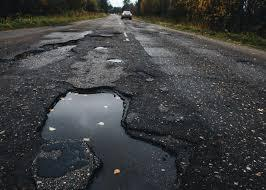pothole: (35, 87, 183, 190), (8, 34, 81, 71), (102, 56, 125, 66), (93, 44, 114, 53)
